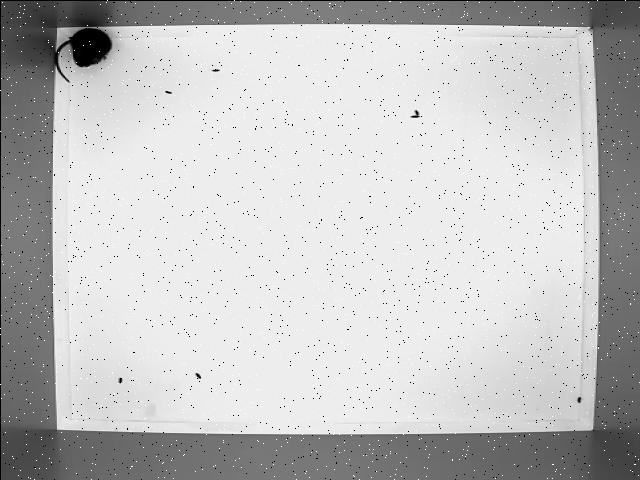Tikus: (48, 28, 110, 84)
